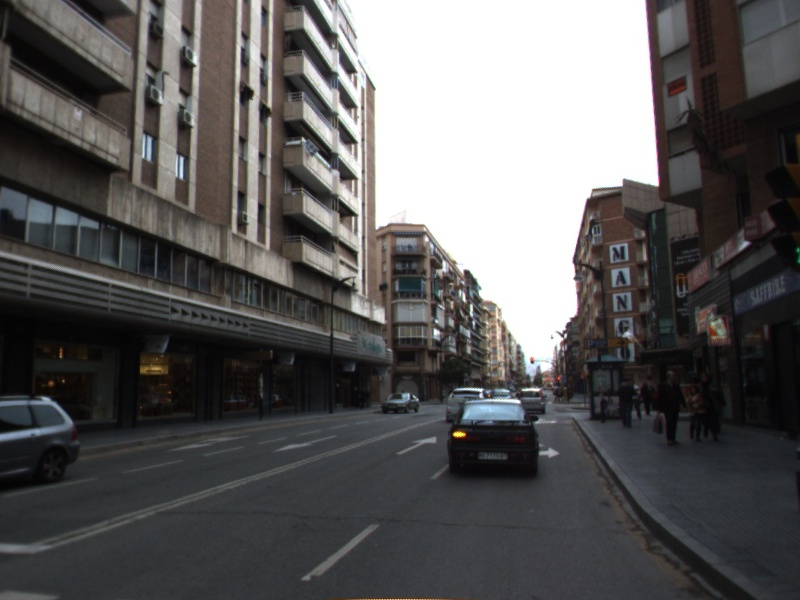STRAIGHT: (394, 434, 438, 456)
